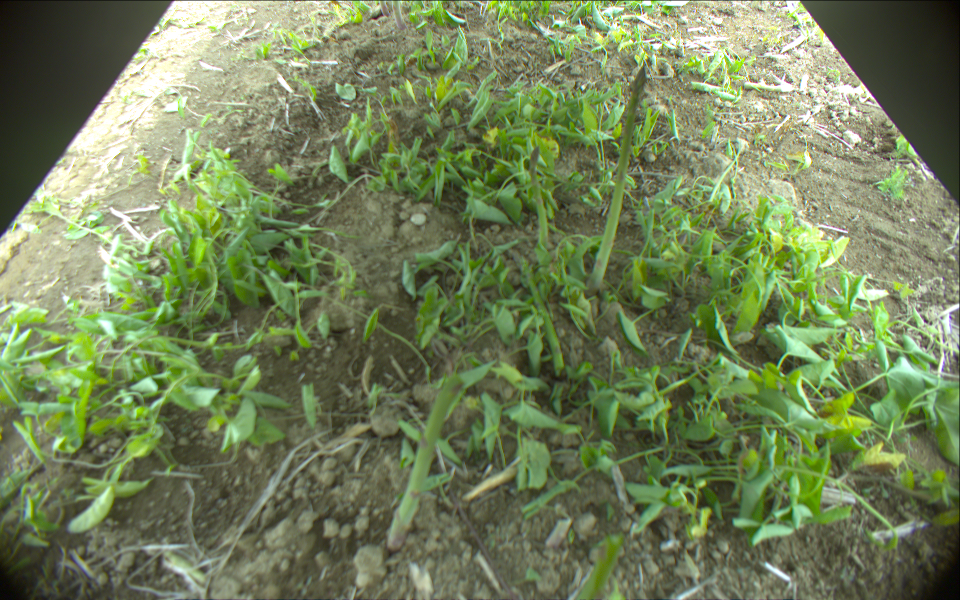aspa: (384, 373, 460, 558), (586, 66, 646, 293), (521, 265, 565, 374), (576, 533, 623, 600), (528, 146, 551, 259), (393, 1, 405, 29), (379, 1, 391, 17)
